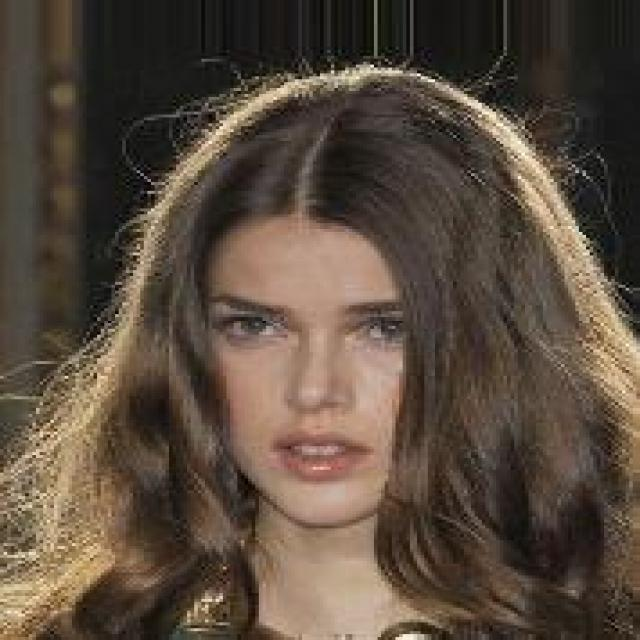nomask: (154, 126, 546, 558)
